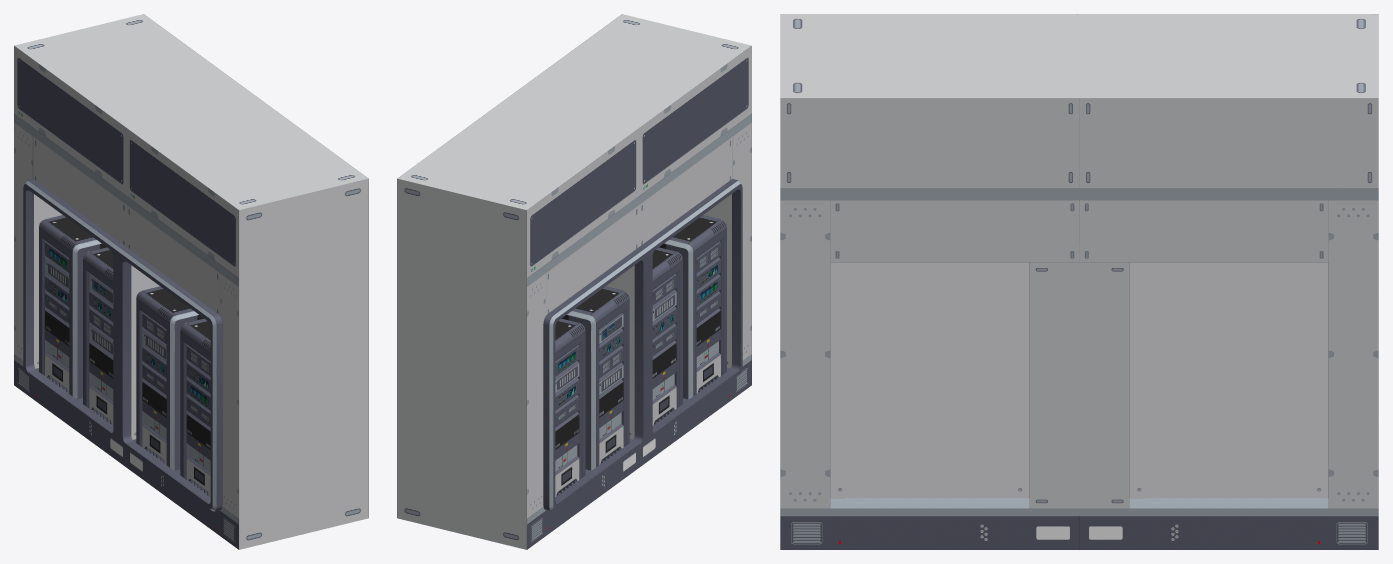
Rendered from Wall_Computer_01_B.FBX.
3 views of the same model, side by side, from view 1: azimuth 30°, elevation 25°; view 2: azimuth 150°, elevation 25°; view 3: azimuth 270°, elevation 25° (orthographic). The views are drawn at different scales.
Parts seen in each view (by area): view 1: Wall_Computer_01_B, Server_03, Server_01, Server_02, Server_04; view 2: Wall_Computer_01_B, Server_02, Server_04, Server_03, Server_01; view 3: Wall_Computer_01_B.
Boxes of the visible parts, x1,y1,x2,y2 form: Wall_Computer_01_B: (14, 14, 368, 549); Server_03: (136, 286, 203, 470); Server_01: (39, 215, 106, 399); Server_02: (83, 247, 113, 425); Server_04: (180, 318, 210, 496); Wall_Computer_01_B: (397, 14, 751, 549); Server_02: (562, 286, 629, 470); Server_04: (659, 215, 726, 399); Server_03: (652, 247, 682, 425); Server_01: (555, 318, 585, 496); Wall_Computer_01_B: (780, 14, 1378, 549).
Size of the model in its own units: 2.13 by 5 by 6.
Materials: 5 (5 with a texture image).
